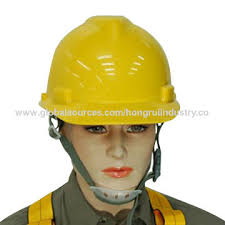Person_wearing_helmet: (33, 10, 180, 139)
